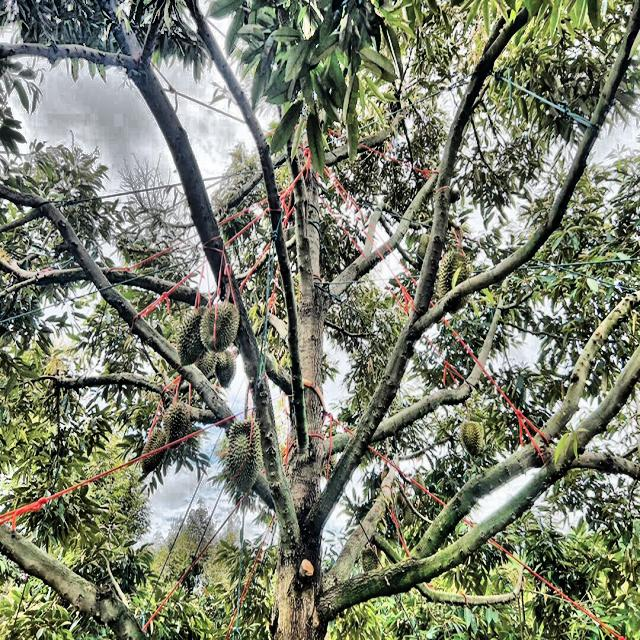arvore: (272, 132, 339, 640)
